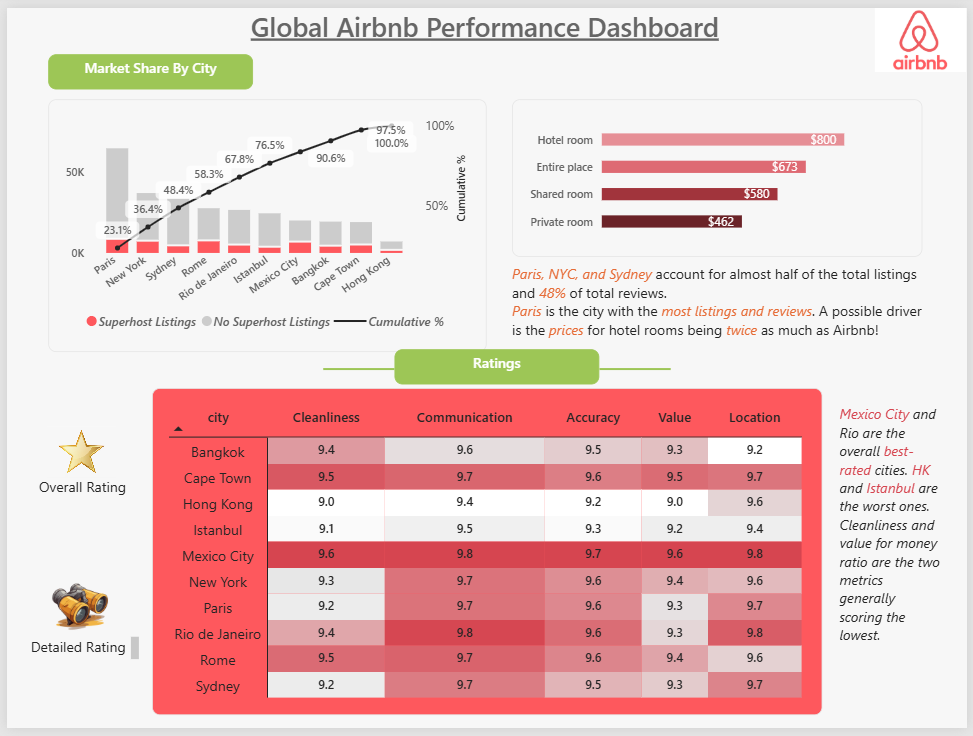

What the dashboard file says about the page in this screenshot:
{"tool":"powerbi","page":{"name":"Ratings 1.1","canvas":[960,720],"ordinal":1},"visuals":[{"type":"textbox","box":[114.4,0,728,90.8],"z":0},{"type":"image","box":[40,418.6,68.6,50],"z":0,"group":"g2"},{"type":"image","box":[41.4,565.7,64.3,62.9],"z":0,"group":"g1"},{"type":"image","box":[865.7,0,94.3,64.3],"z":1000},{"type":"textbox","box":[25.7,468.6,98.6,24.3],"z":1000,"group":"g2"},{"type":"textbox","box":[17.1,628.6,114.3,28.6],"z":1000,"group":"g1"},{"type":"textbox","box":[41.7,46.7,205,35],"z":2000},{"type":"lineStackedColumnComboChart","fields":{"Category":["Listings.city"],"Y":["Listings.Superhost Listings","Listings.No Superhost Listings"],"Y2":["Listings.Cumulative %"]},"box":[41.2,91.2,438.8,252.5],"z":3000},{"type":"barChart","fields":{"Category":["Listings.room_type"],"Y":["Listings.Avg Price"]},"box":[505,91.2,410,157.5],"z":4000},{"type":"textbox","box":[505,256.2,410,103.8],"z":5000},{"type":"textbox","box":[387.1,341.4,205,35],"z":6000},{"type":"shape","box":[592.9,217.1,71.4,287.1],"z":7000},{"type":"shape","box":[315.7,217.1,71.4,287.1],"z":8000},{"type":"pivotTable","fields":{"Rows":["Listings.city"],"Values":["Listings.Cleanliness","Listings.Communication","Listings.Accuracy","Listings.Value","Listings.Location"]},"box":[145,380,670,327.1],"z":9000},{"type":"group","id":"g1","title":"Group 2","box":[17.1,565.7,114.3,91.4],"z":11000},{"type":"group","id":"g2","title":"Group 1","box":[25.7,418.6,98.6,74.3],"z":12000},{"type":"textbox","box":[832,396,102,270],"z":13000}]}

Visuals, with their boxes in screenshot pixels (x1, y1, x2, y2), scaled from the page's 960x720 canvas onto the 973x736 screenshot:
textbox: box=[116, 0, 854, 93]
image: box=[41, 428, 110, 479]
image: box=[42, 578, 107, 643]
image: box=[877, 0, 972, 66]
textbox: box=[26, 479, 126, 504]
textbox: box=[17, 643, 133, 672]
textbox: box=[42, 48, 250, 84]
lineStackedColumnComboChart - Listings.city x Listings.Superhost Listings: box=[42, 93, 486, 351]
barChart - Listings.room_type x Listings.Avg Price: box=[512, 93, 927, 254]
textbox: box=[512, 262, 927, 368]
textbox: box=[392, 349, 600, 385]
shape: box=[601, 222, 673, 515]
shape: box=[320, 222, 392, 515]
pivotTable - Listings.city x Listings.Cleanliness: box=[147, 388, 826, 723]
"Group 2" group: box=[17, 578, 133, 672]
"Group 1" group: box=[26, 428, 126, 504]
textbox: box=[843, 405, 947, 681]
